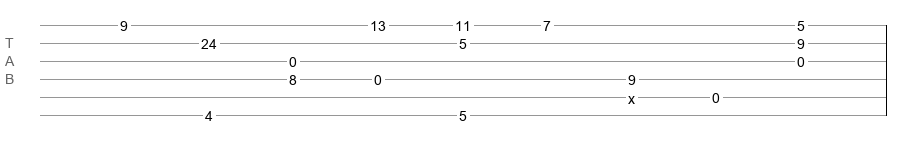0: (289, 54, 297, 64), (374, 72, 382, 82), (712, 90, 720, 100), (797, 54, 805, 64)
11: (455, 18, 471, 28)
13: (370, 18, 386, 28)
24: (201, 36, 217, 46)
4: (205, 108, 213, 118)
5: (459, 108, 467, 118), (459, 36, 467, 46), (797, 18, 805, 28)
7: (543, 18, 551, 28)
8: (289, 72, 297, 82)
9: (120, 18, 128, 28), (628, 72, 636, 82), (797, 36, 805, 46)
x: (628, 91, 635, 99)
